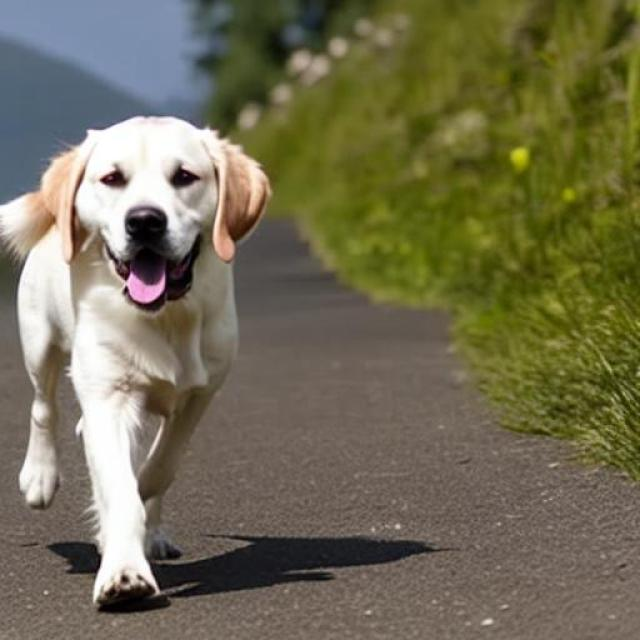Dog: (0, 116, 271, 614)
